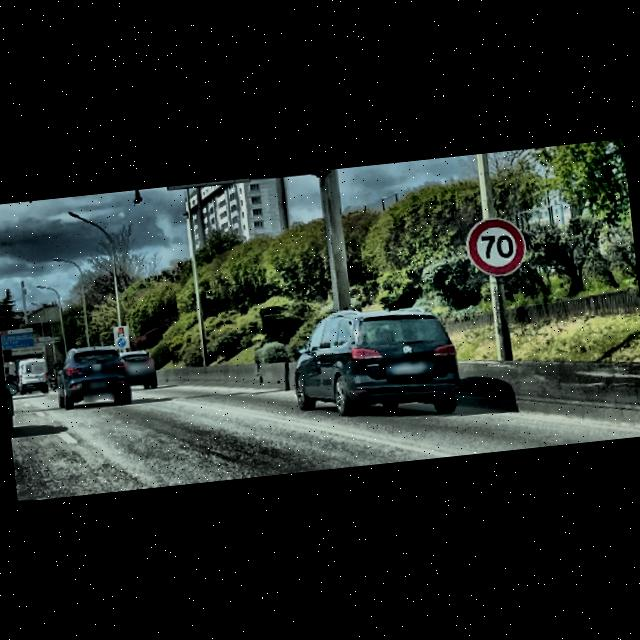speed_70: (464, 216, 528, 278)
